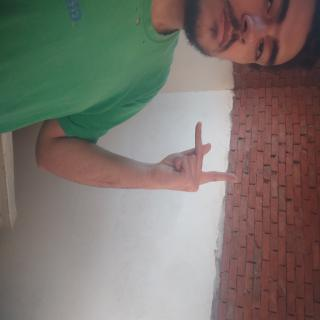DHAA: (88, 115, 148, 225)
